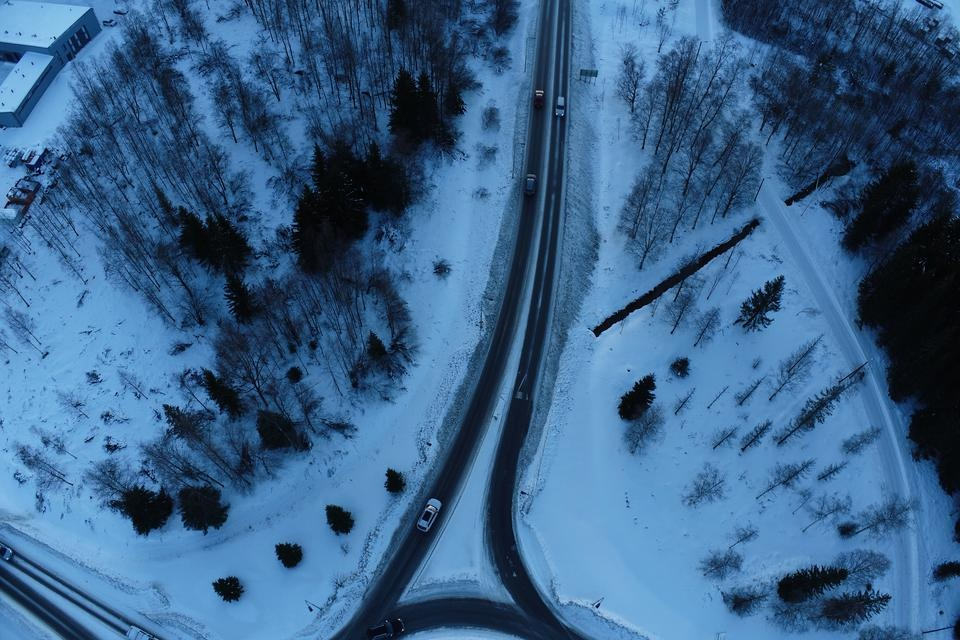roundabout: (269, 500, 632, 640)
